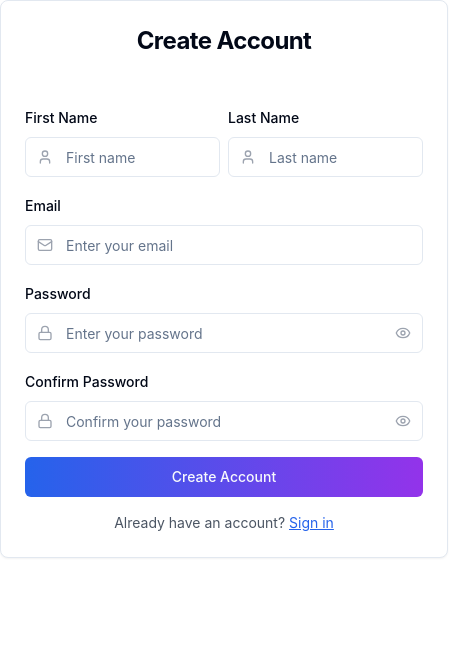
Test: RegisterForm › validates password match
The width and height of the screenshot is (465, 645).
Type "John" into the field labelled "First Name" at (122, 157), box x1=25 y1=137 x2=220 y2=177
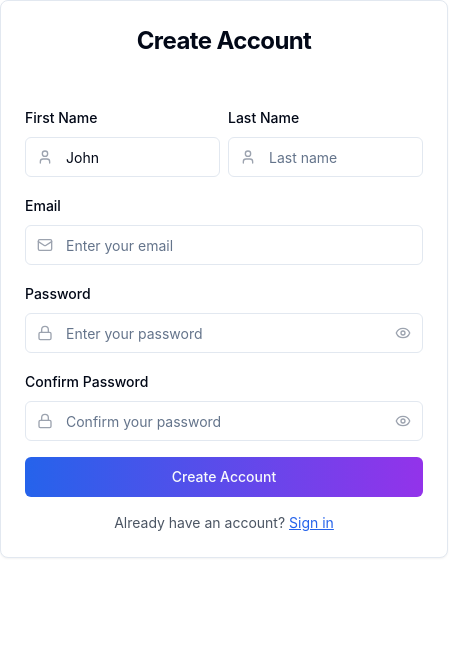
Type "Doe" into the field labelled "Last Name" at (326, 157), box x1=228 y1=137 x2=423 y2=177
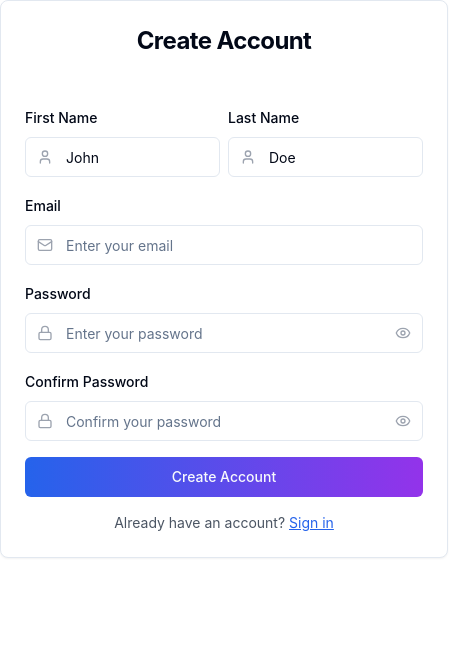
Type "test@example.com" into the field labelled "Email" at (224, 245), box x1=25 y1=225 x2=423 y2=265
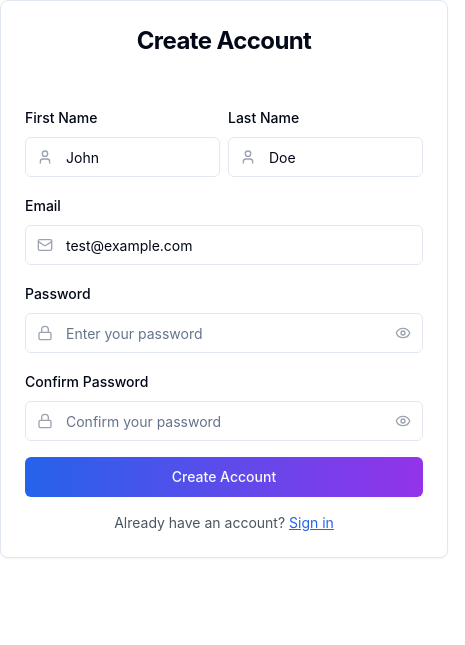
Type "password123" into the password field labelled "Password" at (224, 333), box x1=25 y1=313 x2=423 y2=353
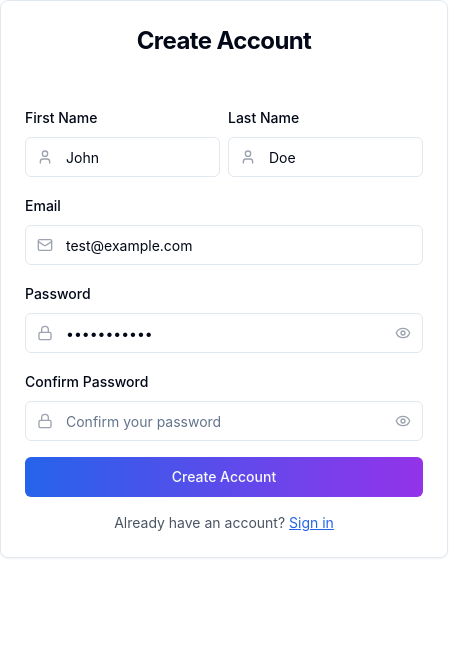
Type "password456" into the password field labelled "Confirm Password" at (224, 421), box x1=25 y1=401 x2=423 y2=441
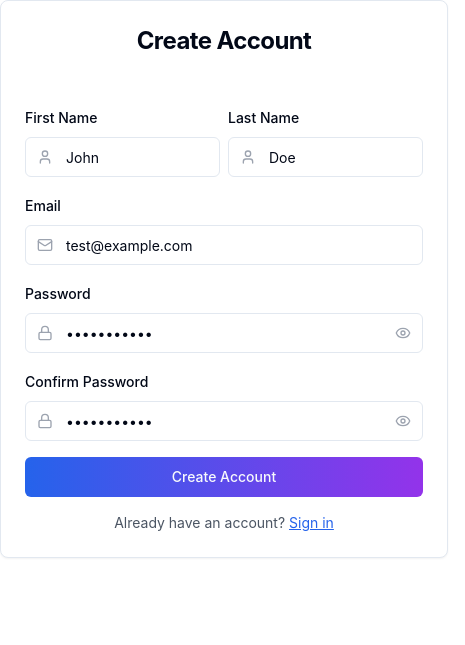
Submit the form "Create Account", box x1=25 y1=105 x2=423 y2=497
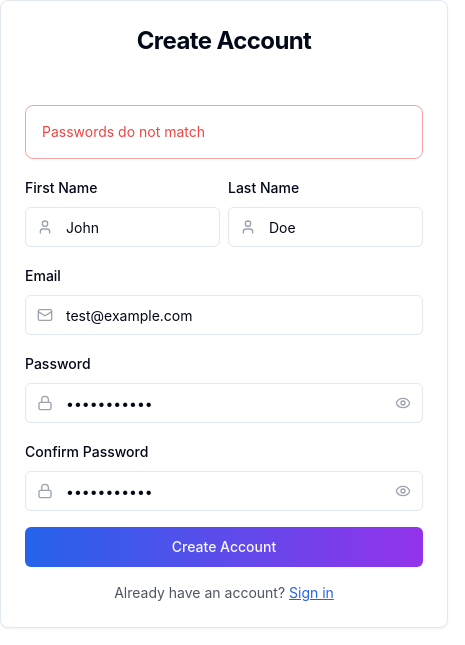
Expected: the text "Passwords do not match" is shown, x1=42 y1=123 x2=205 y2=140
